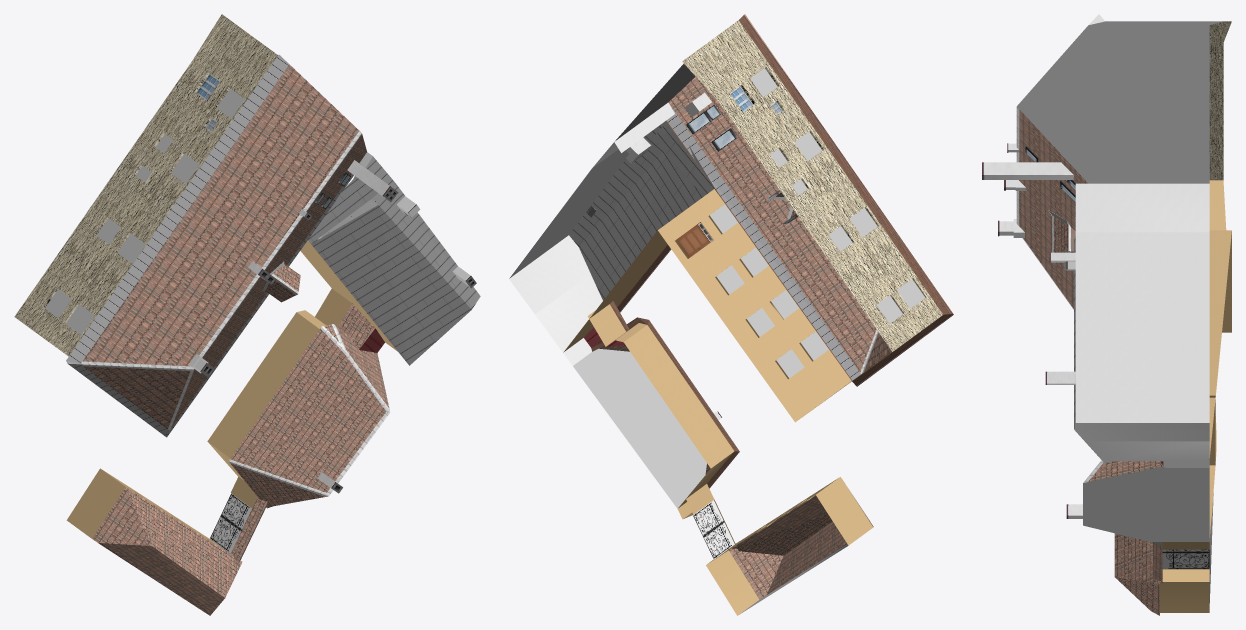
File: Toom-Kooli_23.obj
The picture shows the model from 3 angles, left to right: view 1: azimuth 30°, elevation 25°; view 2: azimuth 150°, elevation 25°; view 3: azimuth 270°, elevation 25°; orthographic projection. The views are drawn at different scales.
Visible parts, largest first — view 1: Toom_Kooli_23; view 2: Toom_Kooli_23; view 3: Toom_Kooli_23.
Part boxes in pixels (x1,y1,x2,y2): Toom_Kooli_23: (14,14,480,615); Toom_Kooli_23: (509,14,953,615); Toom_Kooli_23: (982,14,1231,615).
Bounding box in the file's own units: 34.39 × 46.39 × 16.85.
